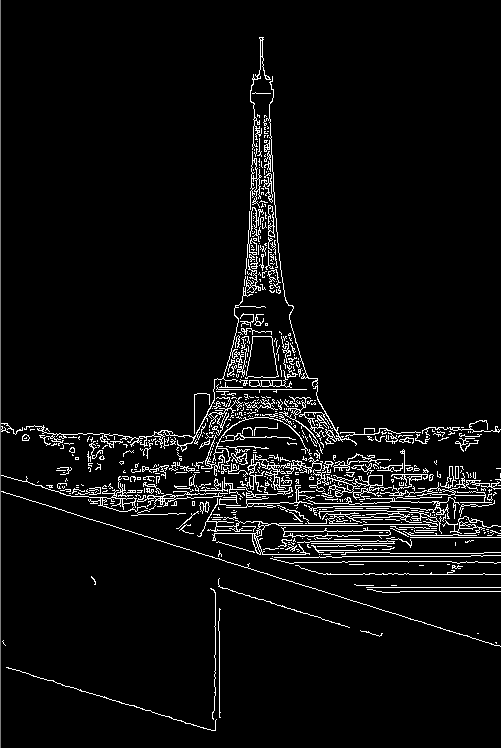eiffel tower: (183, 30, 344, 453)
